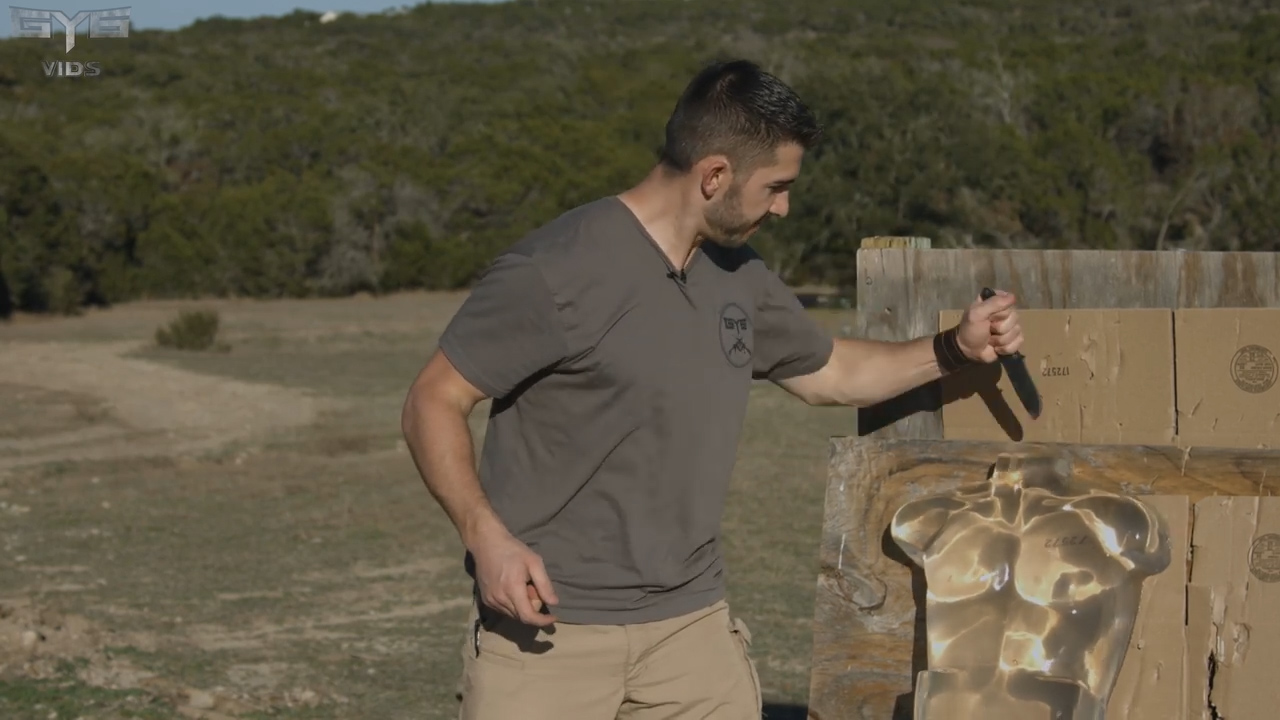knife: (972, 276, 1047, 427)
